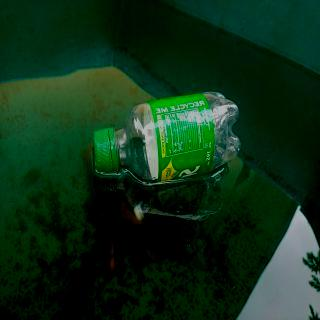bottle: (89, 86, 243, 188)
